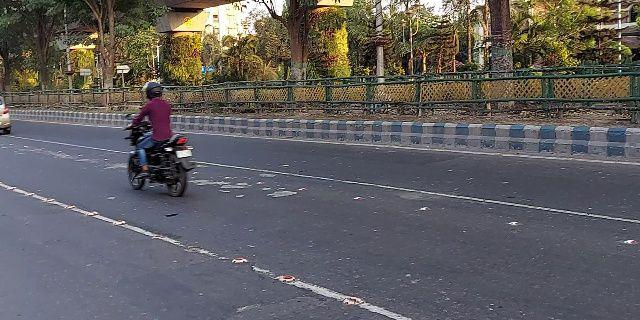Motorbike: (117, 82, 195, 202)
